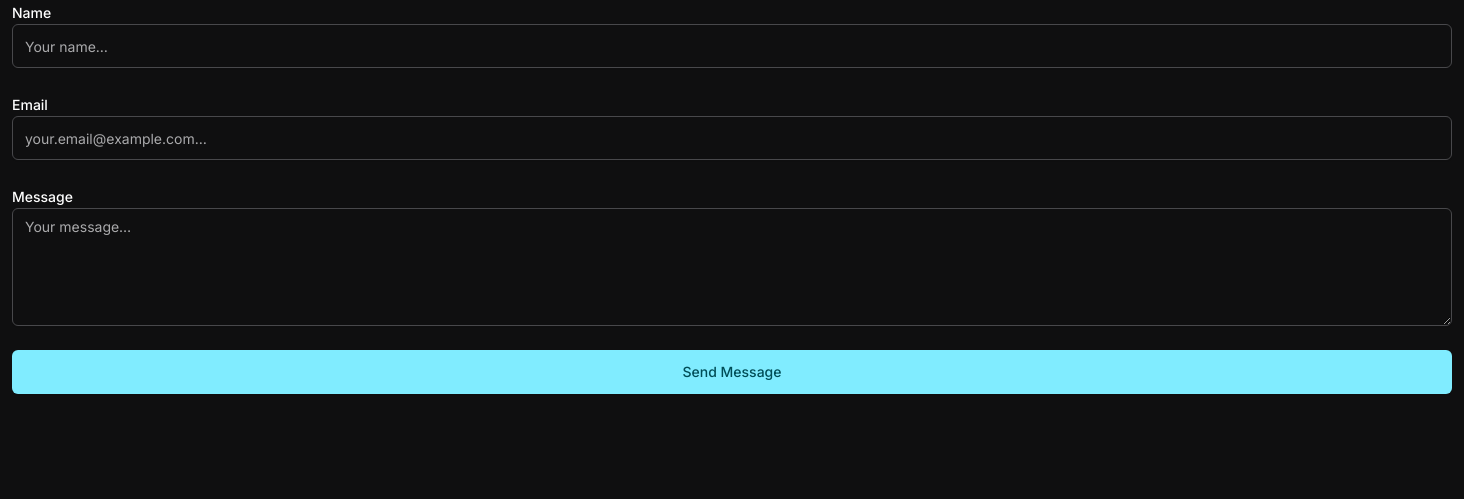
Scenario: ContactForm › shows success message on 200 response
Type "John Doe" into the field labelled "Name".
click(732, 46); type("John Doe")  # box [12,24,1452,68]
Press Tab
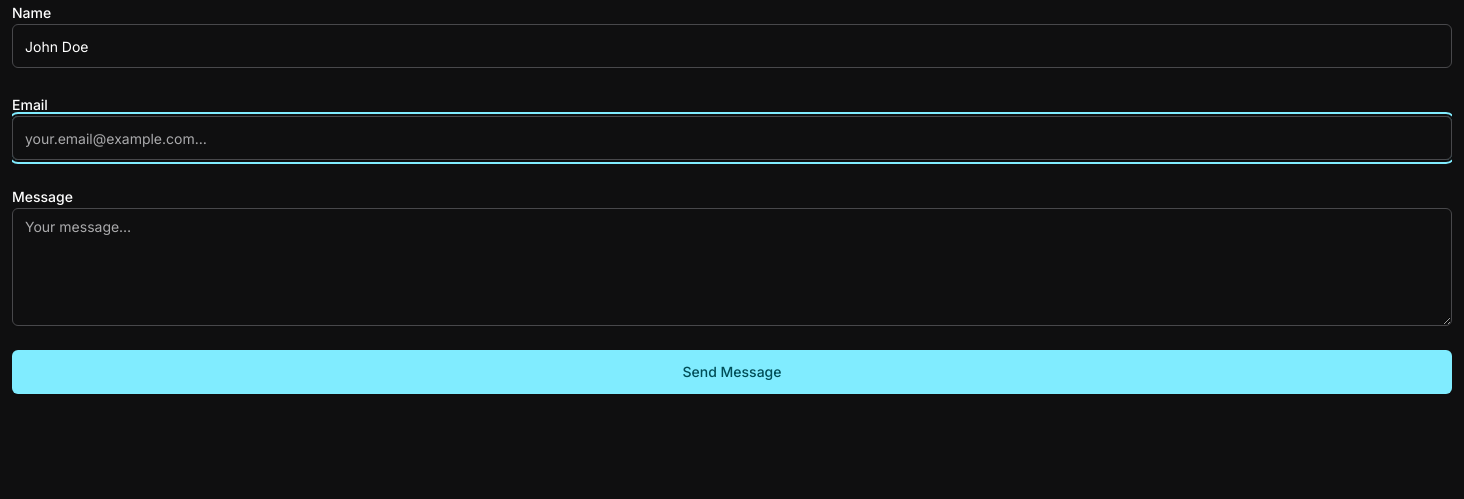
Type "john@example.com" into the field labelled "Email".
click(732, 138); type("john@example.com")  # box [12,116,1452,160]
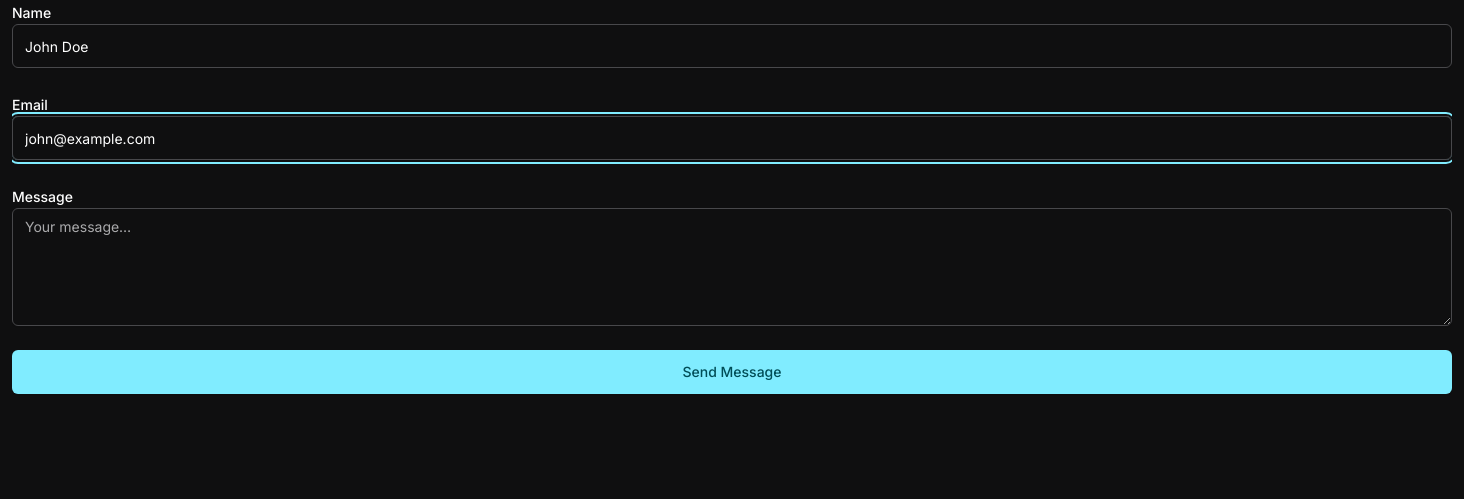
Press Tab
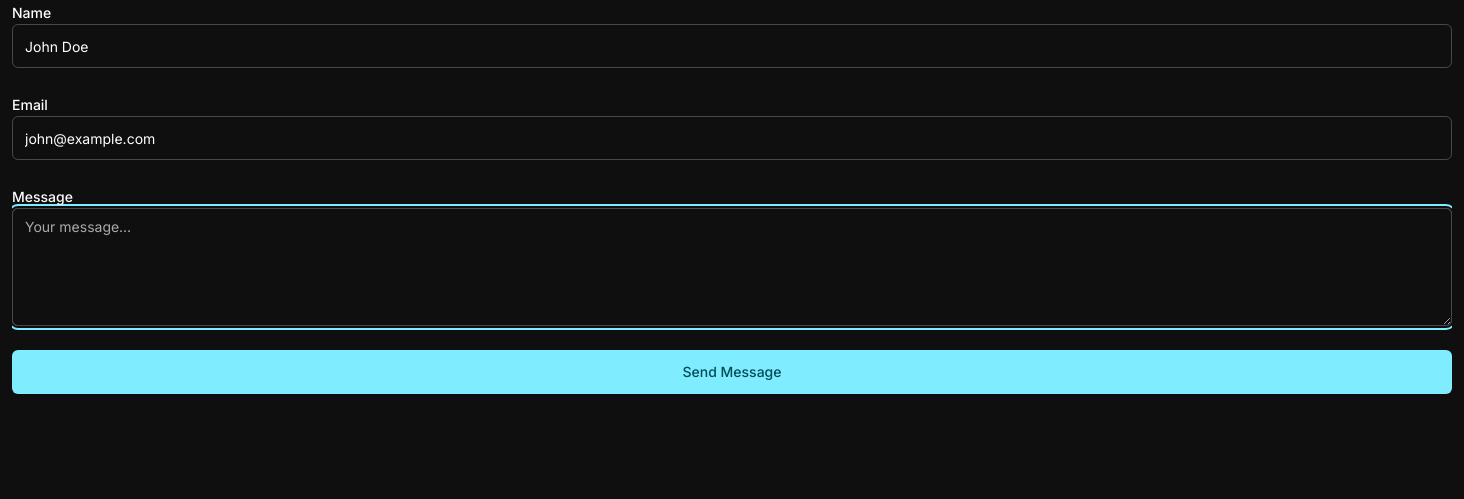
Type "This is a test message that is long enough for validation." into the text box labelled "Message".
click(732, 267); type("This is a test message that is long enough for validation.")  # box [12,208,1452,326]
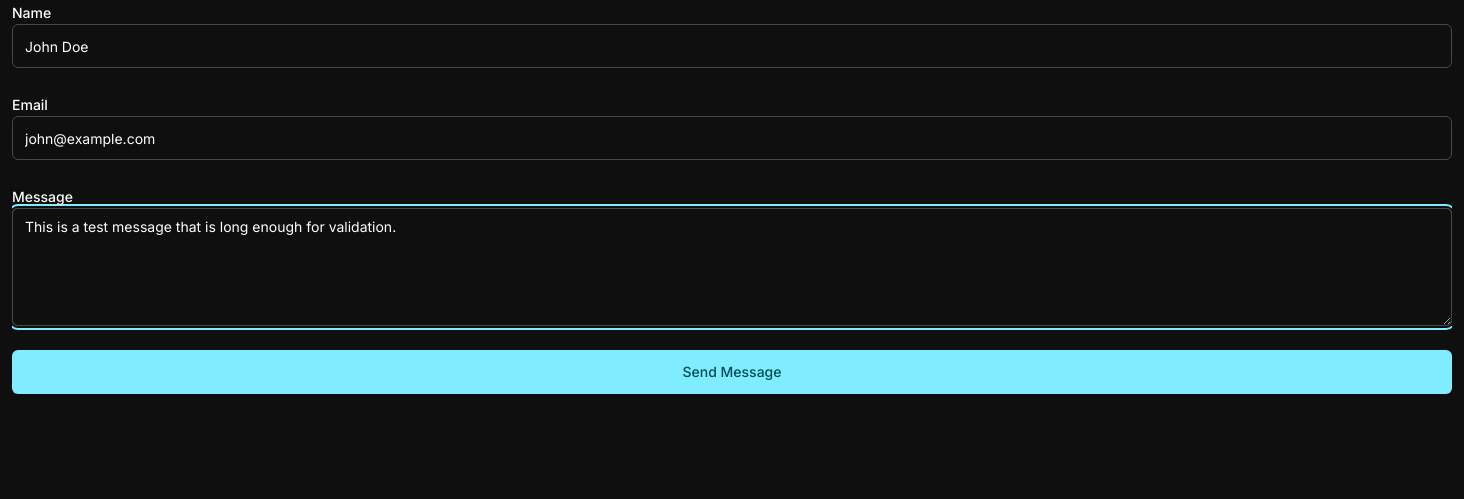
Press Tab
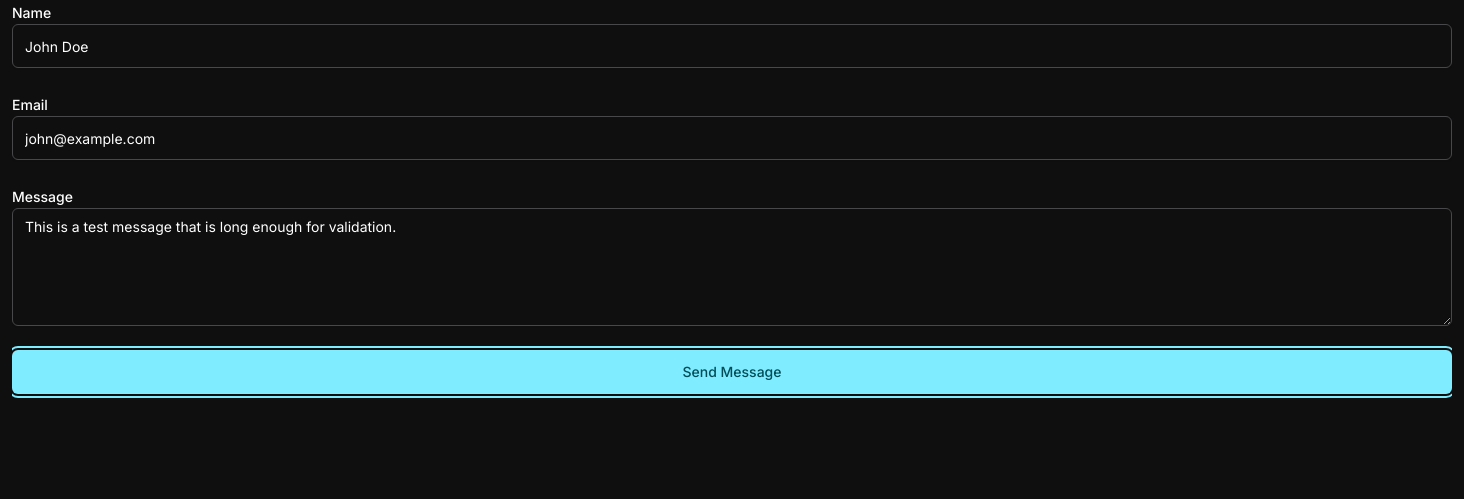
Click the button "Send Message".
click(732, 372)  # box [12,350,1452,394]
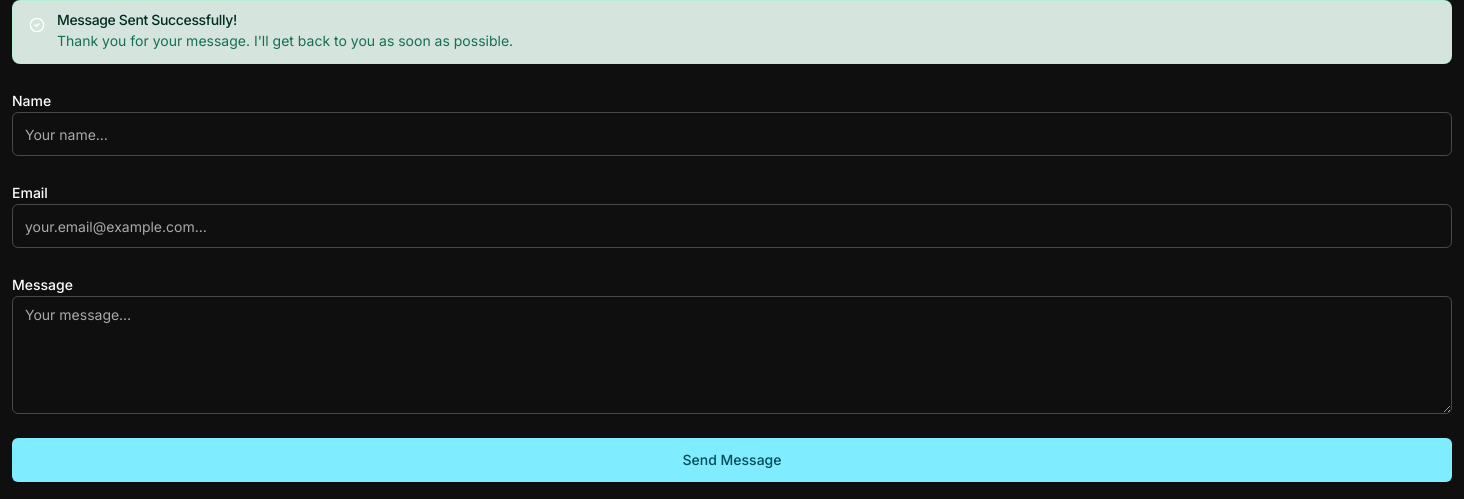
Expected: the heading "Message Sent Successfully!" is shown, [57,11,237,28]
